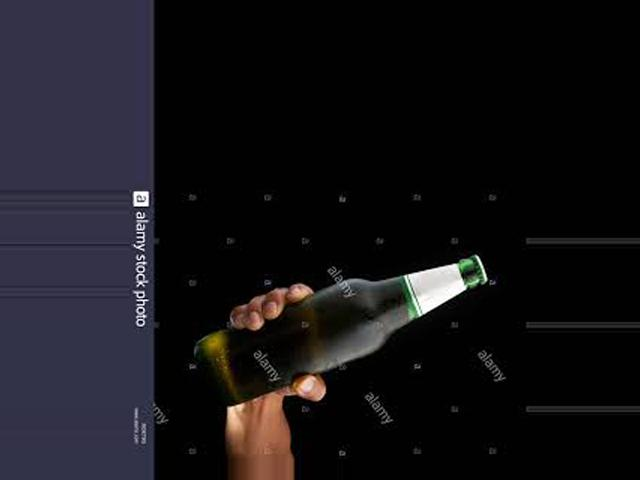beer: (190, 253, 488, 406)
